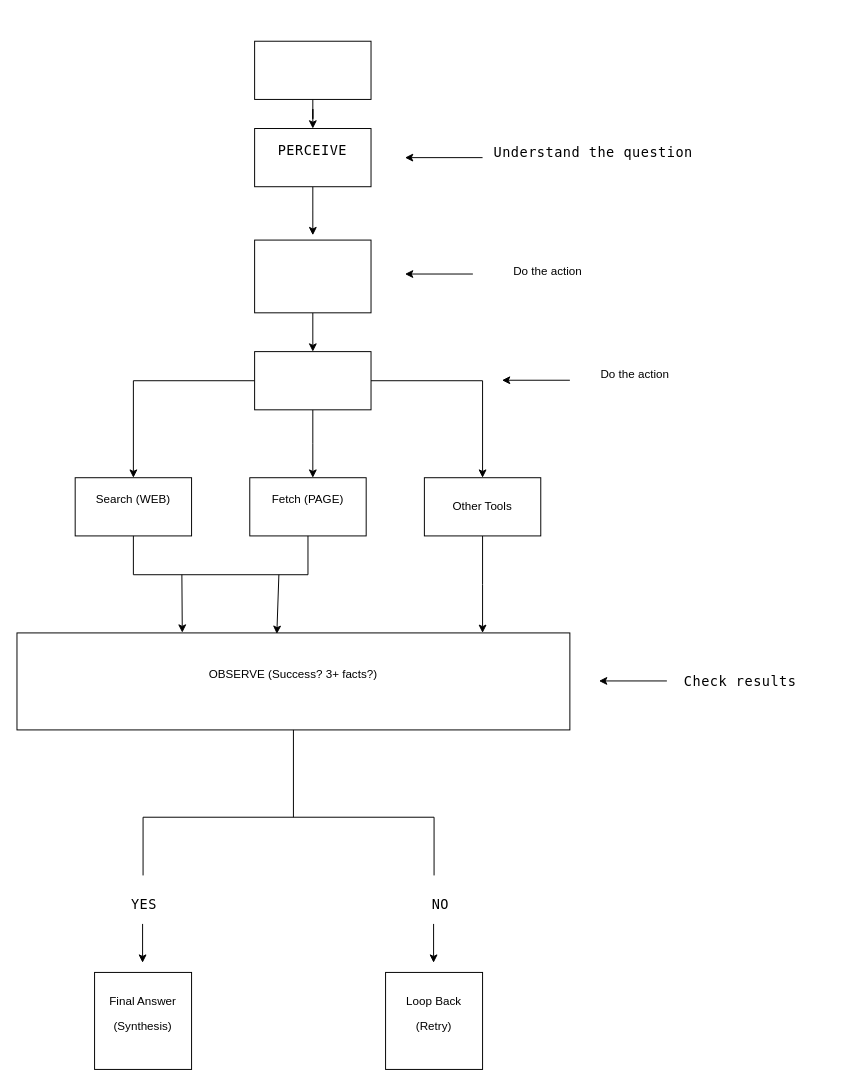
Image size: 858x1090. Some labels were removed from this diagram. Here are the shapes that lost their labels. From the top down, the centre of each, then its label:
the point at 312,69: USER
the point at 312,276: PLAN (Groq)
the point at 312,380: ACT
